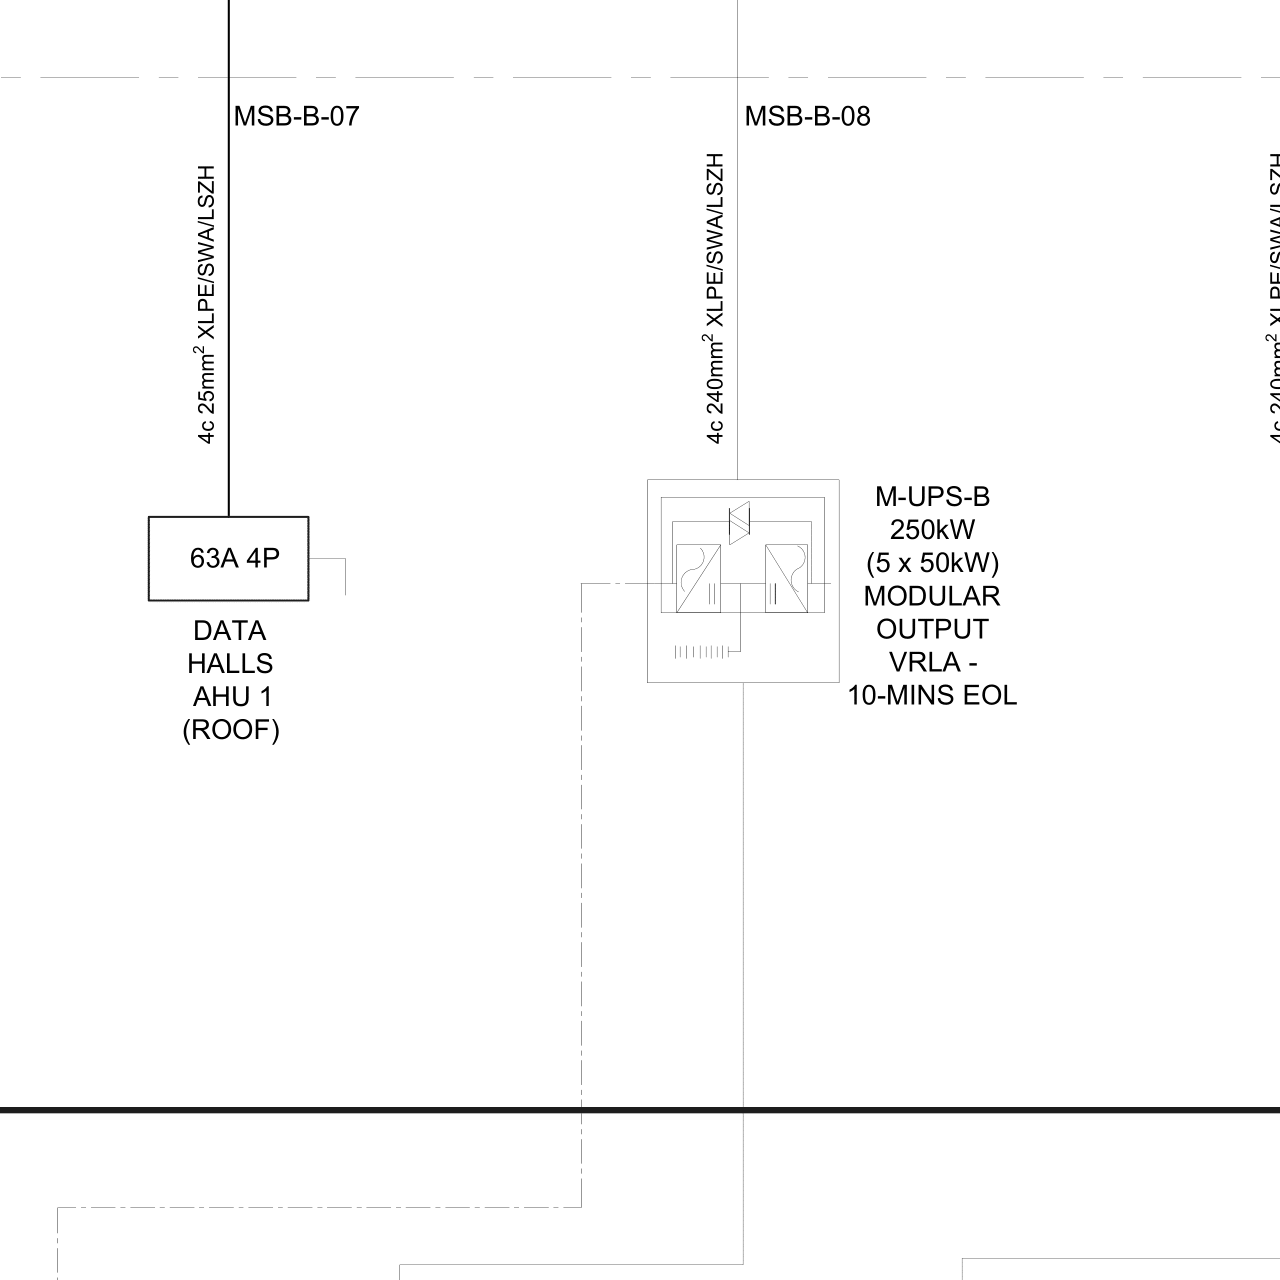UPS: (634, 470, 846, 690)
